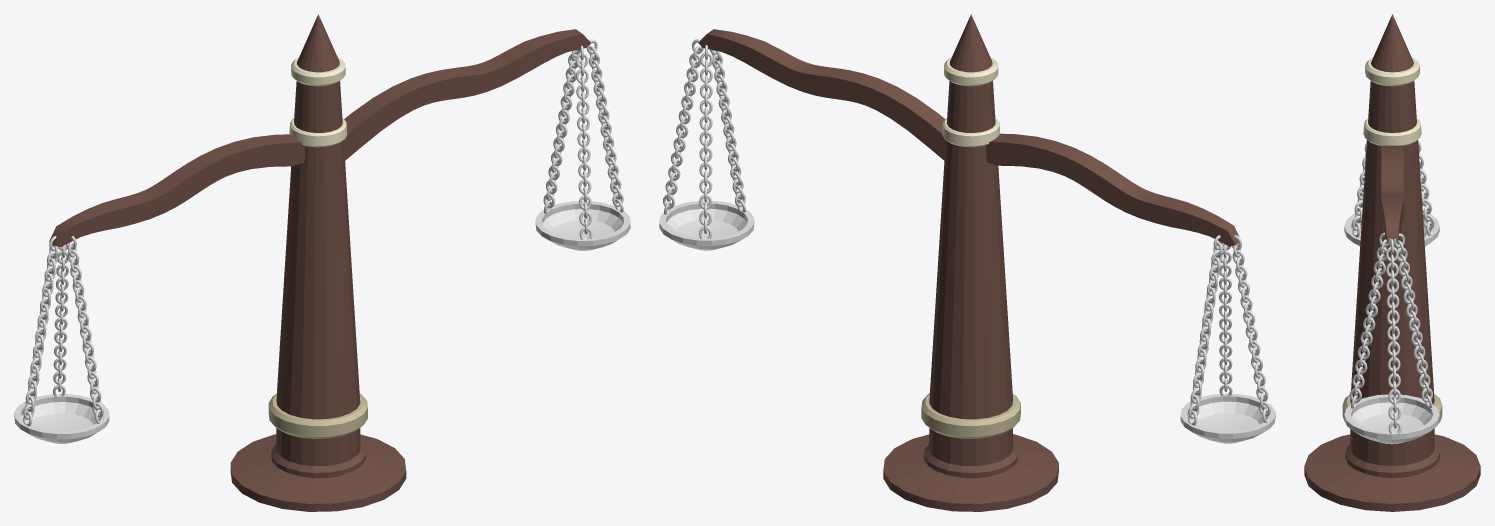
File: Scales.fbx
3 views of the same model, side by side, from view 1: azimuth 30°, elevation 25°; view 2: azimuth 150°, elevation 25°; view 3: azimuth 270°, elevation 25° (orthographic).
Visible parts, largest first — view 1: Scales; view 2: Scales; view 3: Scales.
Part boxes in pixels (box(x1,y1,x2,y2)): Scales: box(14, 14, 630, 511); Scales: box(659, 14, 1275, 511); Scales: box(1304, 14, 1480, 511).
Bounding box in the file's own units: 145 × 106 × 36.79.
